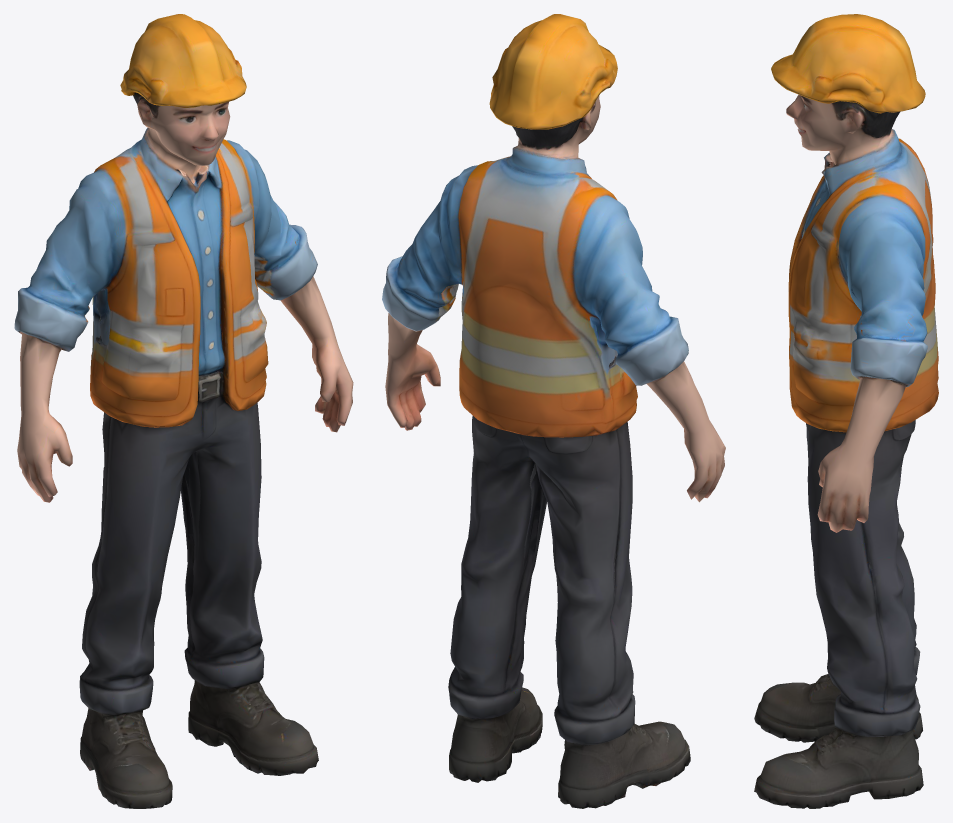
File: equipment.glb
The picture shows the model from 3 angles, left to right: view 1: azimuth 30°, elevation 25°; view 2: azimuth 150°, elevation 25°; view 3: azimuth 270°, elevation 25°; orthographic projection.
Visible parts, largest first — view 1: Mesh1.0; view 2: Mesh1.0; view 3: Mesh1.0.
Boxes of the visible parts, x1,y1,x2,y2 form: Mesh1.0: [14, 14, 353, 808]; Mesh1.0: [382, 14, 725, 808]; Mesh1.0: [754, 14, 938, 808].
Size of the model in its own units: 0.8759 by 1.91 by 0.4306.
1 material, 1 textured.
